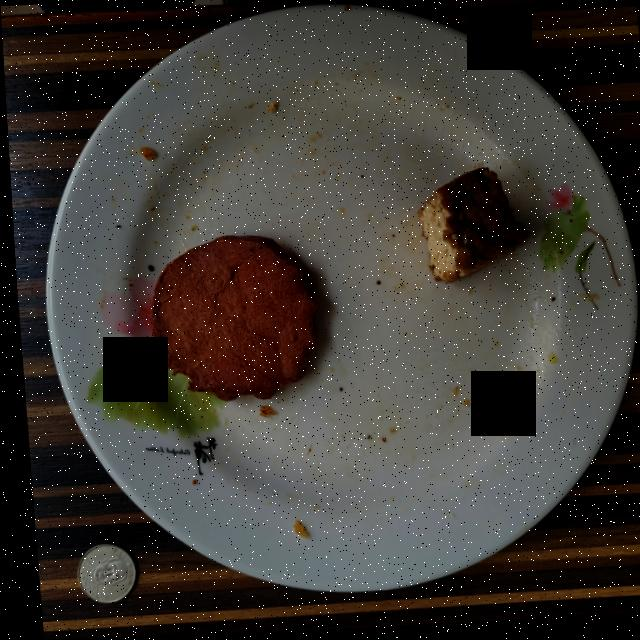Spam: (148, 237, 313, 402)
coin: (69, 544, 128, 603)
egg tofu: (416, 171, 527, 285)
